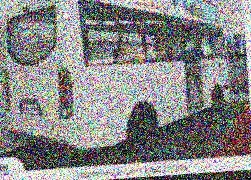bus: (0, 0, 239, 158)
